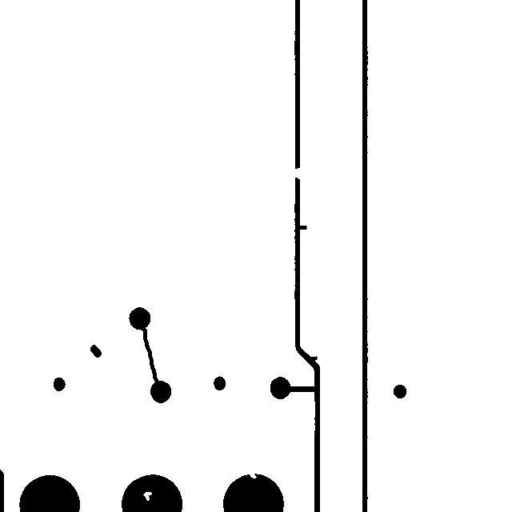copper: (82, 337, 109, 365)
mousebite: (241, 465, 264, 486)
open: (284, 160, 310, 186)
pin-hole: (135, 484, 159, 508)
short: (132, 318, 166, 391), (278, 378, 324, 400)
spur: (302, 348, 325, 369), (290, 218, 314, 237)
